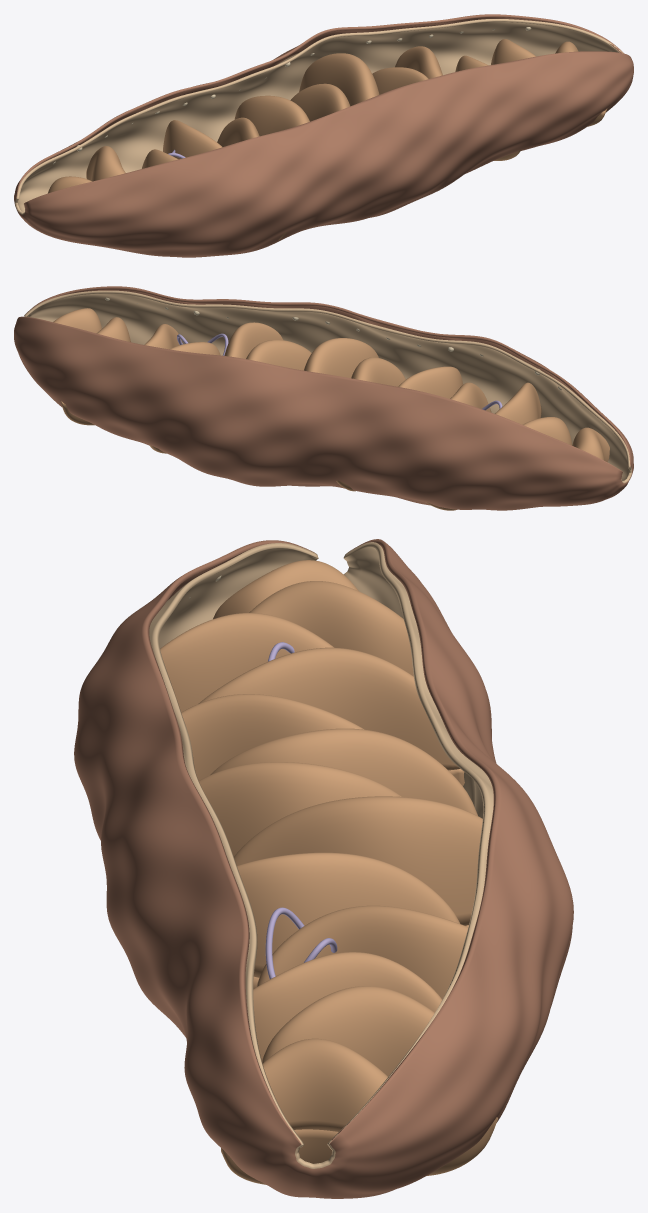
File: mitochondrion-cutaway.glb
The picture shows the model from 3 angles, top to bottom: view 1: azimuth 30°, elevation 25°; view 2: azimuth 150°, elevation 25°; view 3: azimuth 270°, elevation 25°; orthographic projection. The views are drawn at different scales.
Visible parts, largest first — view 1: Outer membrane · open cutaway, Inner boundary membrane · intermembrane gap, Crista_07 · lamellar invagination, Crista_05 · lamellar invagination, Crista_06 · lamellar invagination, Crista_03 · lamellar invagination, Crista_09 · lamellar invagination, Crista_08 · lamellar invagination, Crista_01 · lamellar invagination, Crista_04 · lamellar invagination, Crista_11 · lamellar invagination, Crista_10 · lamellar invagination (+2 smaller); view 2: Outer membrane · open cutaway, Inner boundary membrane · intermembrane gap, Crista_06 · lamellar invagination, Crista_07 · lamellar invagination, Crista_04 · lamellar invagination, Crista_08 · lamellar invagination, Crista_05 · lamellar invagination, Crista_02 · lamellar invagination, Crista_00 · lamellar invagination, Crista_12 · lamellar invagination, Crista_01 · lamellar invagination, Crista_11 · lamellar invagination (+3 smaller); view 3: Outer membrane · open cutaway, Inner boundary membrane · intermembrane gap, Crista_07 · lamellar invagination, Crista_03 · lamellar invagination, Crista_08 · lamellar invagination, Crista_12 · lamellar invagination, Crista_09 · lamellar invagination, Crista_05 · lamellar invagination, Crista_11 · lamellar invagination, Crista_06 · lamellar invagination, Crista_02 · lamellar invagination, Crista_01 · lamellar invagination (+4 smaller).
Boxes of the visible parts, x1=… form: Outer membrane · open cutaway: x1=14, y1=14, x2=633, y2=257; Inner boundary membrane · intermembrane gap: x1=15, y1=19, x2=623, y2=214; Crista_07 · lamellar invagination: x1=299, y1=53, x2=379, y2=106; Crista_05 · lamellar invagination: x1=234, y1=95, x2=309, y2=136; Crista_06 · lamellar invagination: x1=290, y1=83, x2=350, y2=121; Crista_03 · lamellar invagination: x1=163, y1=120, x2=222, y2=159; Crista_09 · lamellar invagination: x1=395, y1=46, x2=442, y2=78; Crista_08 · lamellar invagination: x1=372, y1=67, x2=428, y2=94; Crista_01 · lamellar invagination: x1=86, y1=146, x2=125, y2=181; Crista_04 · lamellar invagination: x1=217, y1=117, x2=286, y2=240; Crista_11 · lamellar invagination: x1=491, y1=39, x2=535, y2=64; Crista_10 · lamellar invagination: x1=455, y1=55, x2=520, y2=160; Outer membrane · open cutaway: x1=14, y1=286, x2=633, y2=510; Inner boundary membrane · intermembrane gap: x1=24, y1=290, x2=631, y2=483; Crista_06 · lamellar invagination: x1=304, y1=338, x2=378, y2=378; Crista_07 · lamellar invagination: x1=246, y1=340, x2=311, y2=370; Crista_04 · lamellar invagination: x1=398, y1=366, x2=462, y2=398; Crista_08 · lamellar invagination: x1=224, y1=322, x2=283, y2=358; Crista_05 · lamellar invagination: x1=336, y1=357, x2=405, y2=491; Crista_02 · lamellar invagination: x1=495, y1=382, x2=541, y2=424; Crista_00 · lamellar invagination: x1=572, y1=427, x2=609, y2=462; Crista_12 · lamellar invagination: x1=53, y1=308, x2=101, y2=333; Crista_01 · lamellar invagination: x1=523, y1=417, x2=572, y2=445; Crista_11 · lamellar invagination: x1=60, y1=317, x2=130, y2=425; Outer membrane · open cutaway: x1=74, y1=539, x2=573, y2=1198; Inner boundary membrane · intermembrane gap: x1=149, y1=542, x2=493, y2=1168; Crista_07 · lamellar invagination: x1=234, y1=796, x2=482, y2=926; Crista_03 · lamellar invagination: x1=198, y1=647, x2=464, y2=785; Crista_08 · lamellar invagination: x1=237, y1=852, x2=460, y2=988; Crista_12 · lamellar invagination: x1=221, y1=1038, x2=387, y2=1184; Crista_09 · lamellar invagination: x1=256, y1=905, x2=468, y2=999; Crista_05 · lamellar invagination: x1=210, y1=728, x2=477, y2=815; Crista_11 · lamellar invagination: x1=262, y1=986, x2=497, y2=1175; Crista_06 · lamellar invagination: x1=199, y1=762, x2=401, y2=856; Crista_02 · lamellar invagination: x1=160, y1=613, x2=333, y2=712; Crista_01 · lamellar invagination: x1=249, y1=581, x2=413, y2=675.
Bounding box in the file's own units: 11.56 × 2.6 × 4.14.
